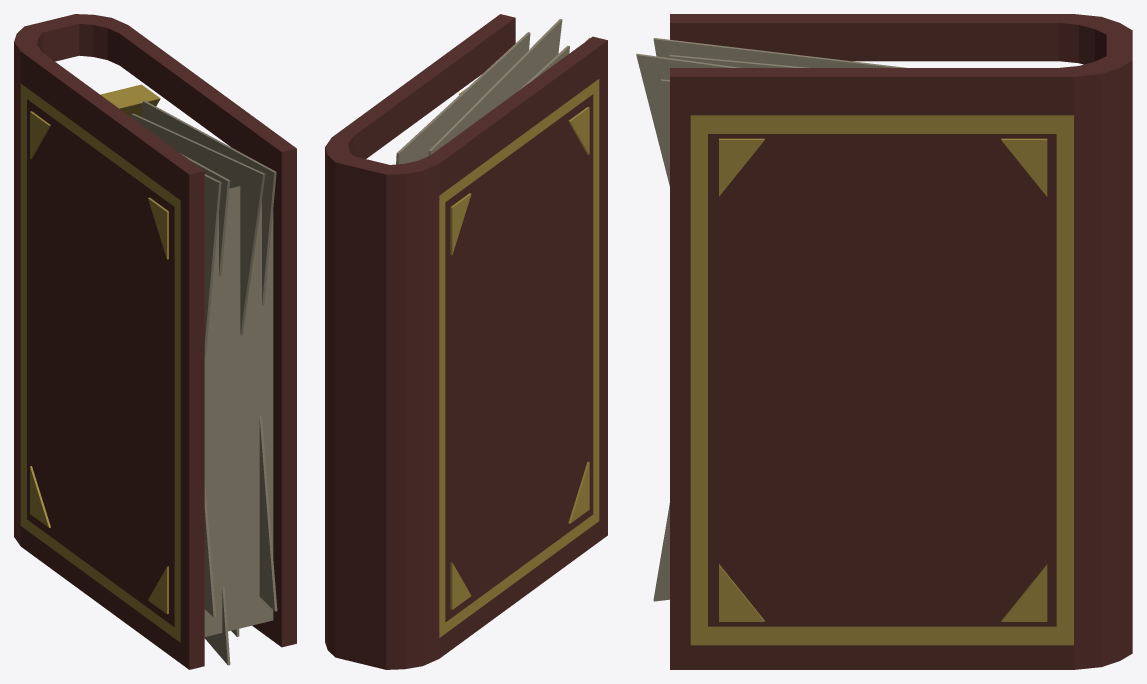
File: quaternius-rpg-items-book-2-closed.glb
The picture shows the model from 3 angles, left to right: view 1: azimuth 30°, elevation 25°; view 2: azimuth 150°, elevation 25°; view 3: azimuth 270°, elevation 25°; orthographic projection. The views are drawn at different scales.
Parts seen in each view (by area): view 1: Book2_Closed; view 2: Book2_Closed; view 3: Book2_Closed.
Part boxes in pixels (x1,y1,x2,y2): Book2_Closed: (14, 14, 296, 669); Book2_Closed: (325, 14, 607, 669); Book2_Closed: (636, 14, 1132, 669).
Bounding box in the file's own units: 0.1864 × 0.802 × 0.5993.
